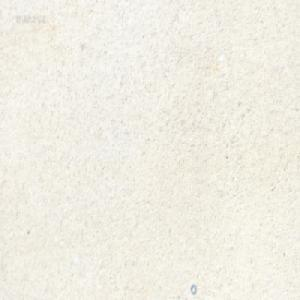Washer: (190, 283, 196, 295)
